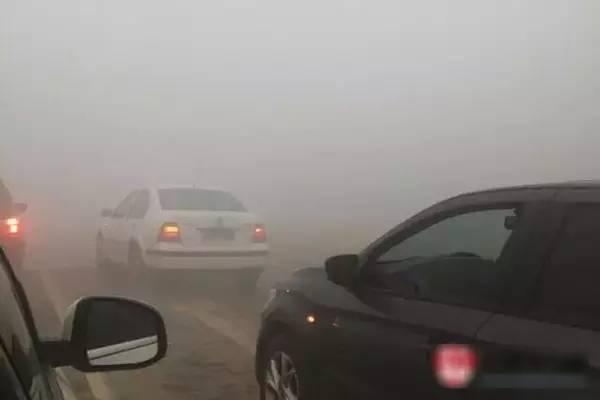car: (254, 178, 600, 399), (1, 246, 168, 400), (95, 183, 269, 291), (1, 180, 28, 273)
